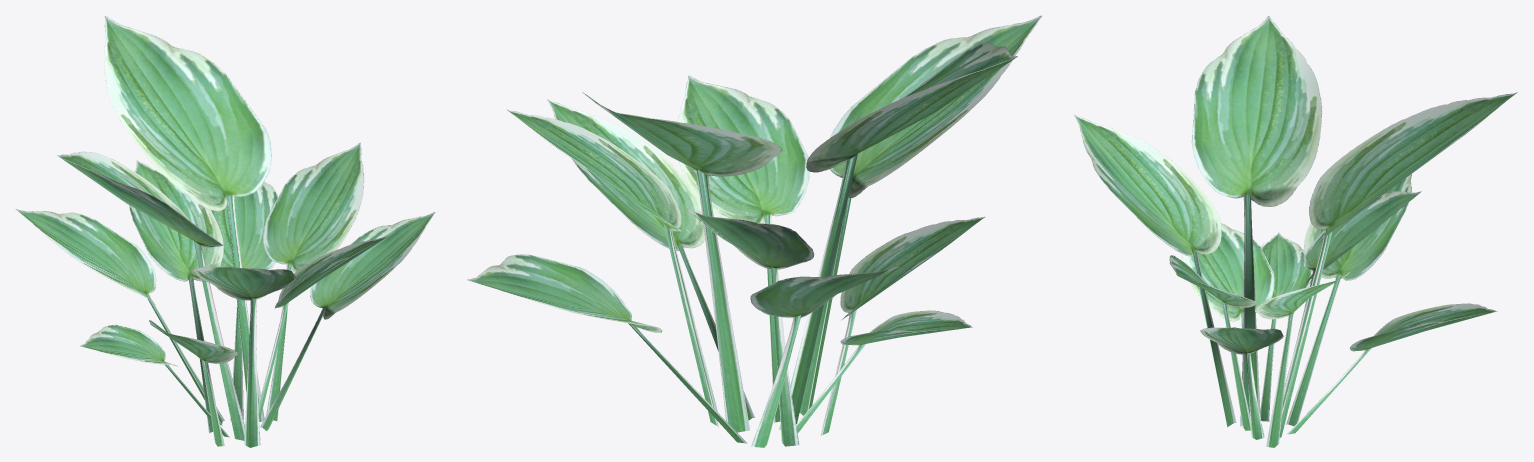
Rendered from plant_small_wg_03N.fbx.
3 renders of one model, left to right at view 1: azimuth 30°, elevation 25°; view 2: azimuth 150°, elevation 25°; view 3: azimuth 270°, elevation 25°, orthographic. The views are drawn at different scales.
Parts seen in each view (by area): view 1: plant_small_wg_03N; view 2: plant_small_wg_03N; view 3: plant_small_wg_03N.
Boxes of the visible parts, x1,y1,x2,y2 form: plant_small_wg_03N: [15, 16, 435, 447]; plant_small_wg_03N: [467, 15, 1041, 447]; plant_small_wg_03N: [1074, 16, 1517, 447].
Bounding box in the file's own units: 47.43 × 40.91 × 49.95.
